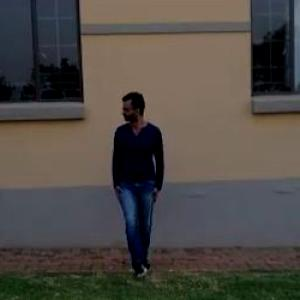follow: (110, 90, 164, 272)
